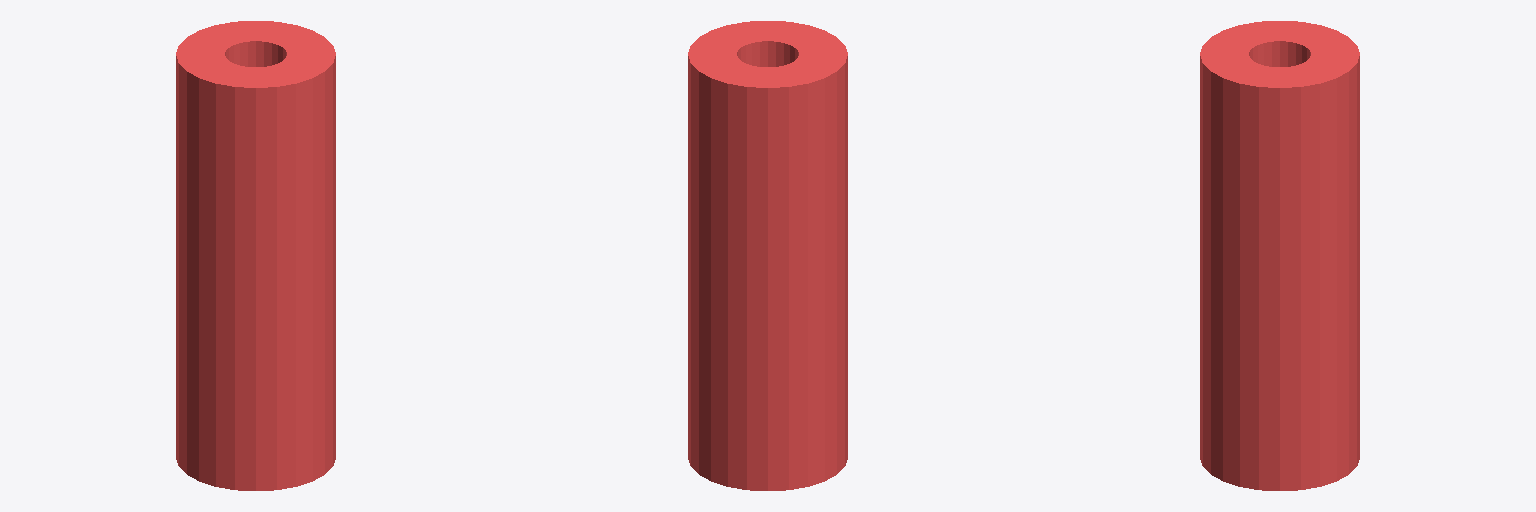
URDF robot description (cube.urdf):
<?xml version="1.0" ?>
<robot name="cube.urdf">

	<link name="baseLink">
		<contact>
			<lateral_friction value="100.5"/>
			<rolling_friction value="100.0"/>
			<contact_cfm value="0.0"/>
			<contact_erp value="1.0"/>
		</contact>
		<inertial>
			<origin rpy="0 0 0" xyz="0.0 0.0 0.0"/>
			<mass value="0.2"/>
			<inertia ixx="0.2125" ixy="-0.005" ixz="0.0225" iyy="0.205" iyz="0.045" izz="0.0125"/>
		</inertial>
		<visual>
			<origin rpy="0 0 0" xyz="0 0 0"/>
			<geometry>
				<mesh filename="tinker.obj" scale="0.006 0.006 0.01"/> 
			</geometry>
			<material name="red">
				<color rgba="1 0.4 0.4 1"/>
			</material>
		</visual>
		<collision>
			<origin rpy="0 0 0" xyz="0 0 0"/>
			<geometry>
				<mesh filename="tinker.obj" scale="0.006 0.006 0.01"/>
			</geometry>
		</collision>
	</link>



</robot>

--- What the picture shows (computed from the rendered views, not written in the file) ---
Views: 3 orthographic renders of the robot side by side, from view 1: azimuth 30°, elevation 25°; view 2: azimuth 150°, elevation 25°; view 3: azimuth 270°, elevation 25°.
Robot: cube.urdf — 1 links, 0 joints (none); root link baseLink; default pose: all joints at 0.
Links seen in each view (by area): view 1: baseLink; view 2: baseLink; view 3: baseLink.
Boxes of the visible links, x1,y1,x2,y2 form: baseLink: (176, 21, 335, 490); baseLink: (688, 21, 847, 490); baseLink: (1200, 21, 1359, 490).
Bounding box of the posed robot: 0.054 × 0.054 × 0.15 m (x, y, z).
Meshes: 1 distinct files referenced, 1 mesh visuals loaded (1 OBJ).